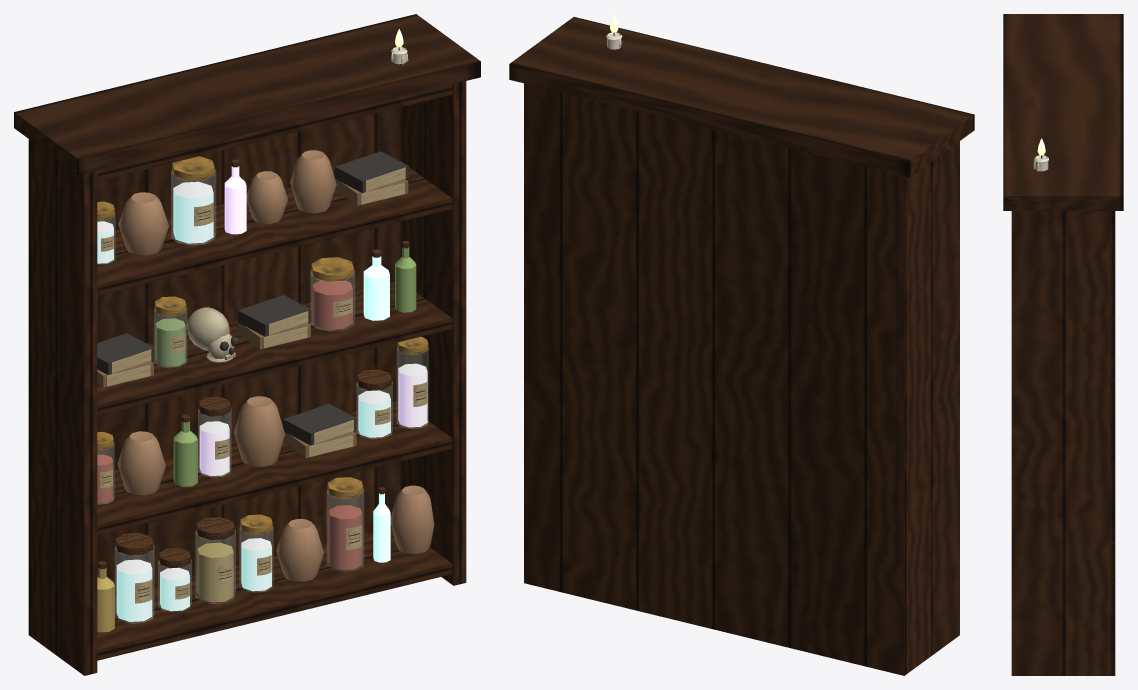
The model's file is jar_shelf.glb.
3 views of the same model, side by side, from view 1: azimuth 30°, elevation 25°; view 2: azimuth 150°, elevation 25°; view 3: azimuth 270°, elevation 25° (orthographic). The views are drawn at different scales.
Parts seen in each view (by area): view 1: jar_shelf; view 2: jar_shelf; view 3: jar_shelf.
Part boxes in pixels (x1,y1,x2,y2): jar_shelf: [14, 14, 480, 675]; jar_shelf: [509, 14, 974, 675]; jar_shelf: [1003, 14, 1123, 675].
Bounding box in the file's own units: 1.58 × 2.08 × 0.44.
Materials: 23 (6 with a texture image).
